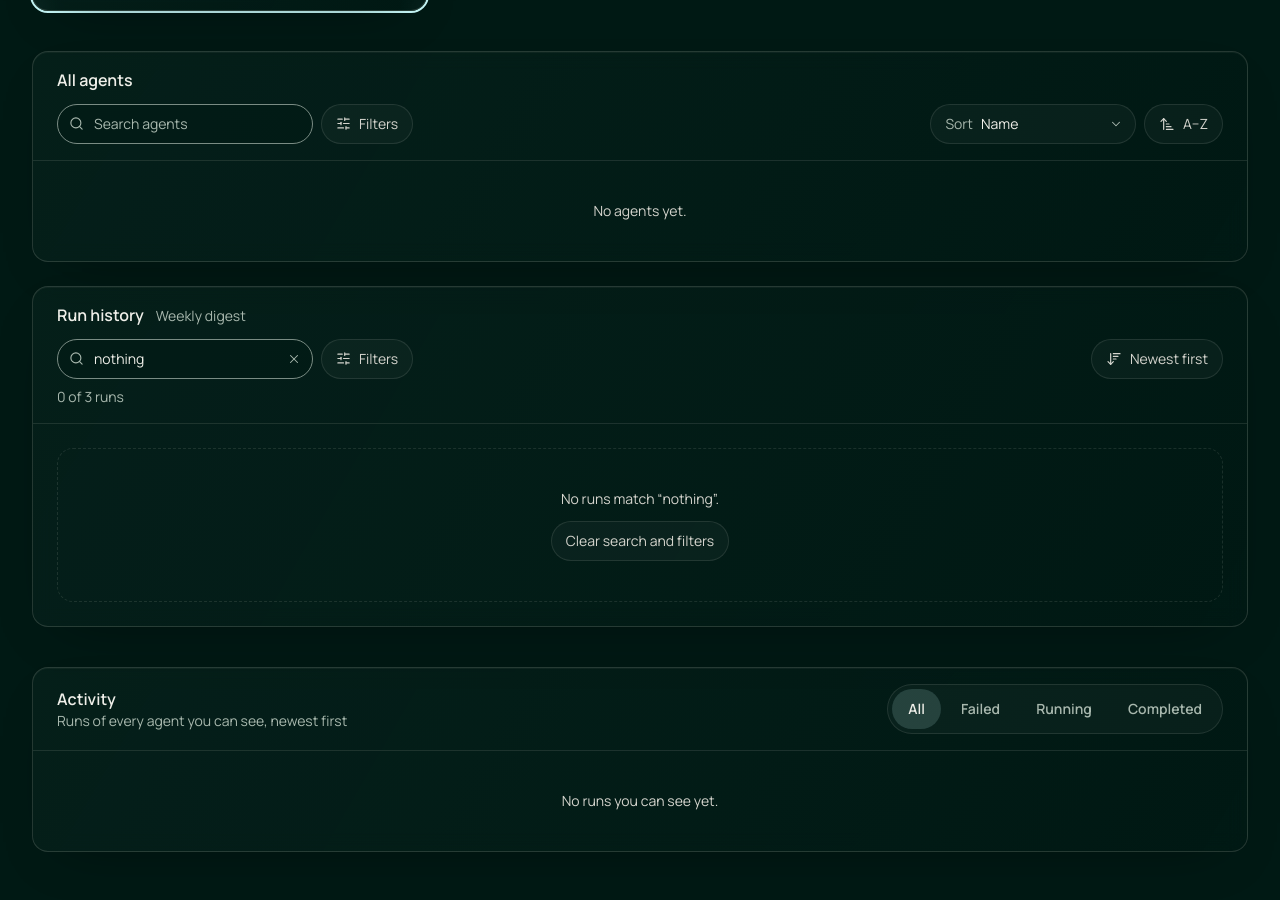
Test case: agents page run history list controls › says when the route found nothing and clears back to the agent's runs
(page scrolled)
Check: the text "No runs match “nothing”." is shown, box [561,488,719,508]
Click the button "Clear search and filters".
click(640, 540)  # box [551,520,729,560]
(page scrolled)
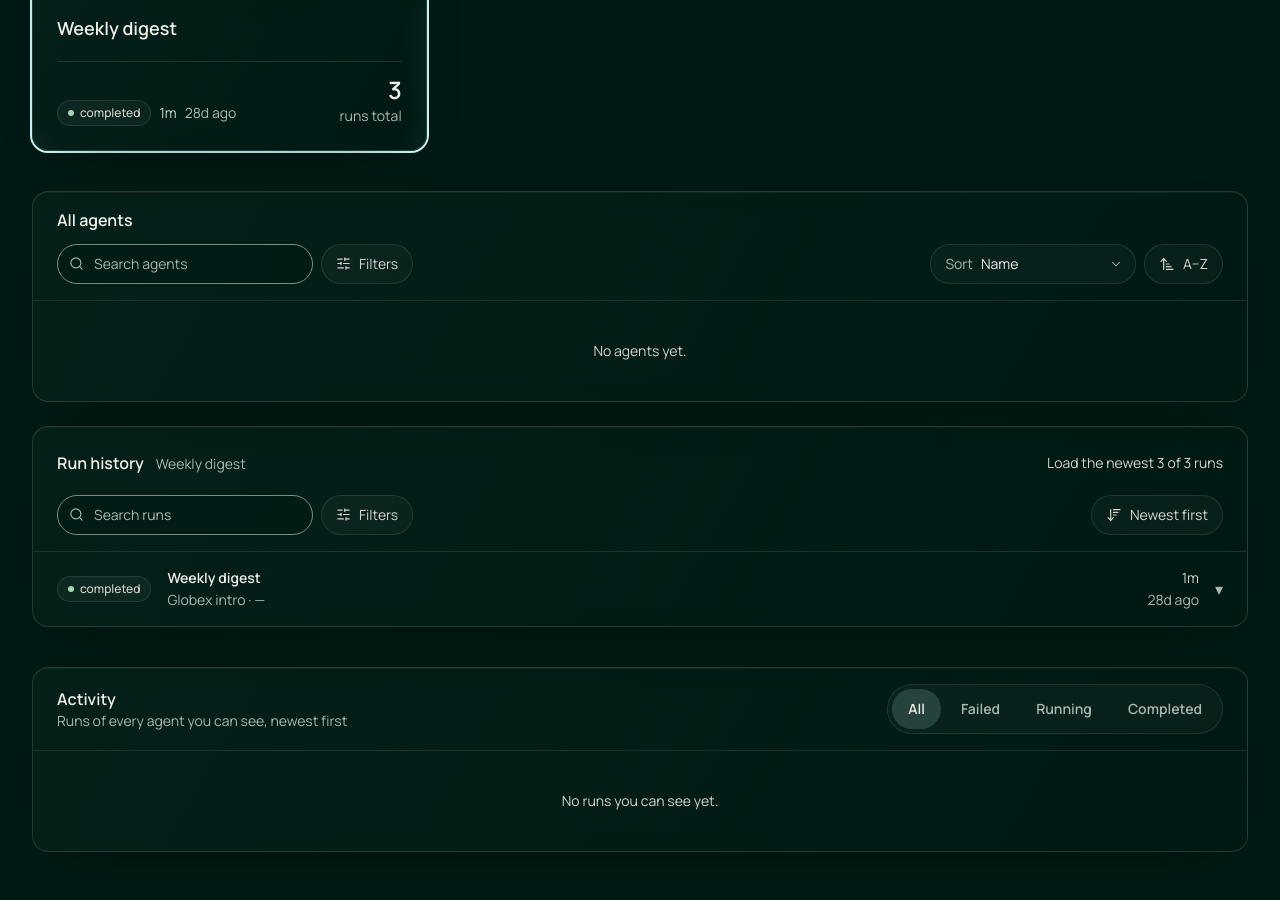
Check: the text "Globex intro · —" is shown, box [167,590,265,608]
